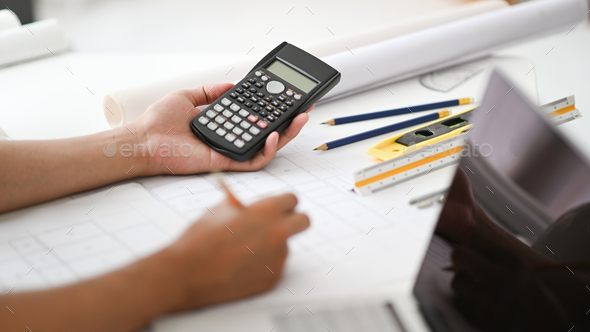Calculator: (190, 41, 343, 162)
